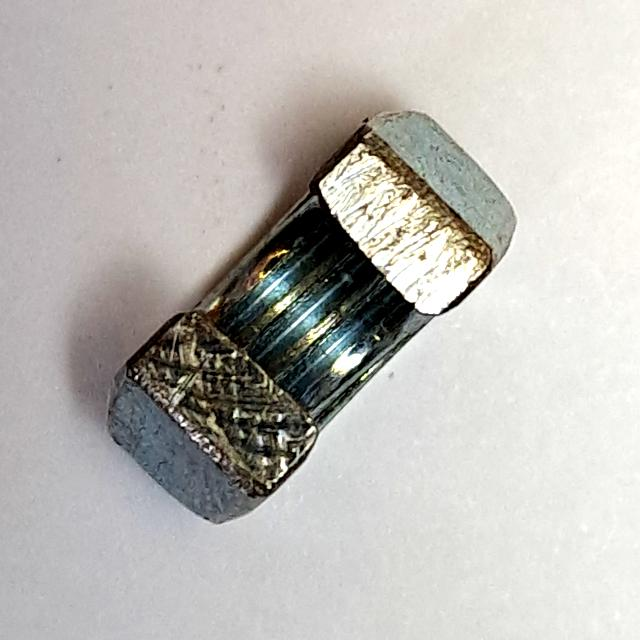Side-Fracture: (92, 91, 532, 550)
